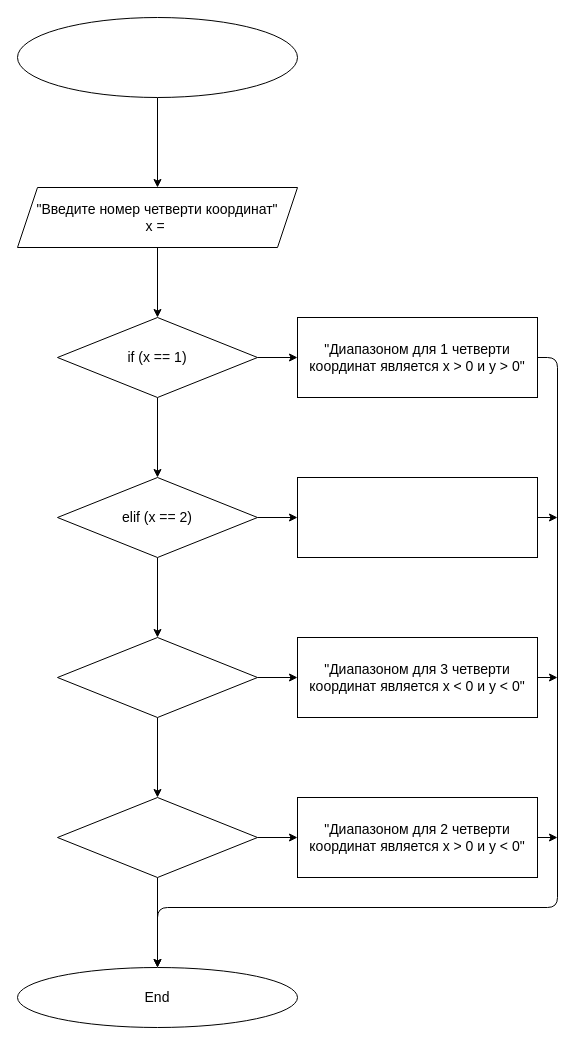
This 583x1045 diagram has some shape labels left out. Here are the shapes that lost their labels. From the top down, the box of each, then its label:
(16, 16, 298, 98): Start
(296, 476, 538, 558): "Диапазоном для 2 четверти координат является x < 0 и y > 0"
(56, 636, 258, 718): elif (x == 3)
(56, 796, 258, 878): elif (x == 4)
